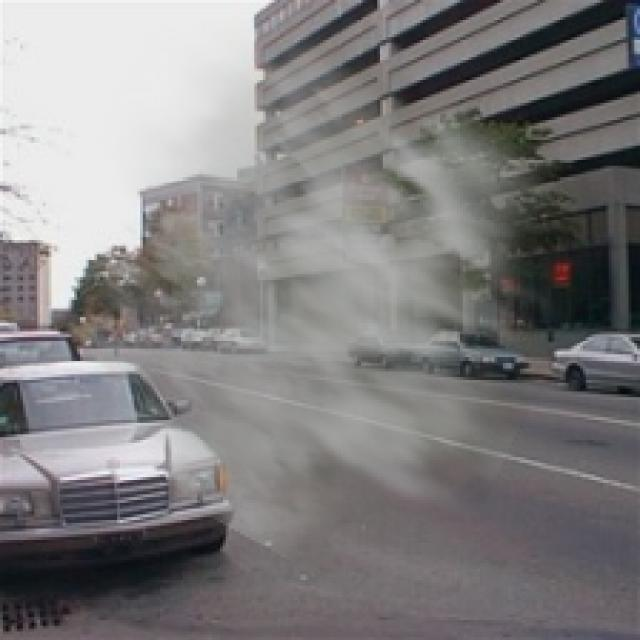Smoke: (63, 17, 632, 586)
